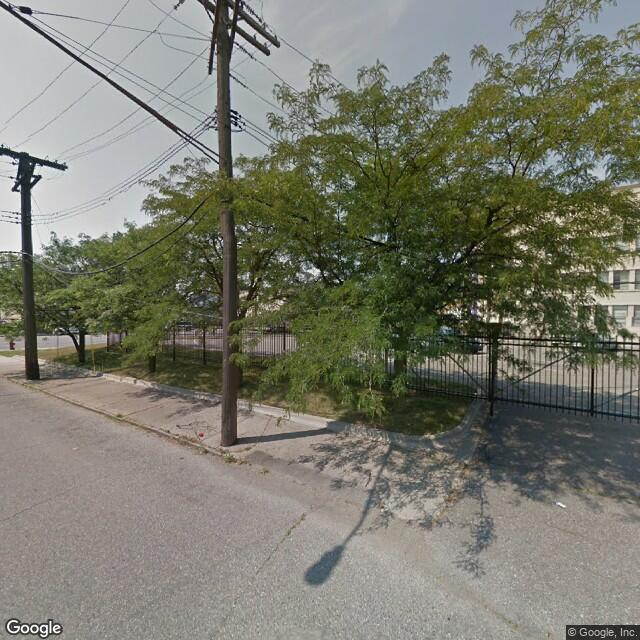litter: (555, 500, 567, 510), (197, 431, 207, 439)
